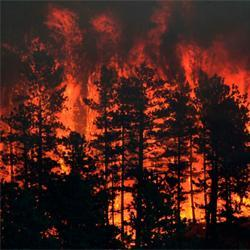fire: (66, 80, 94, 130), (113, 189, 133, 227), (180, 202, 208, 222)
